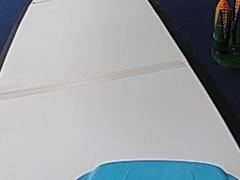corn: (208, 0, 240, 66)
